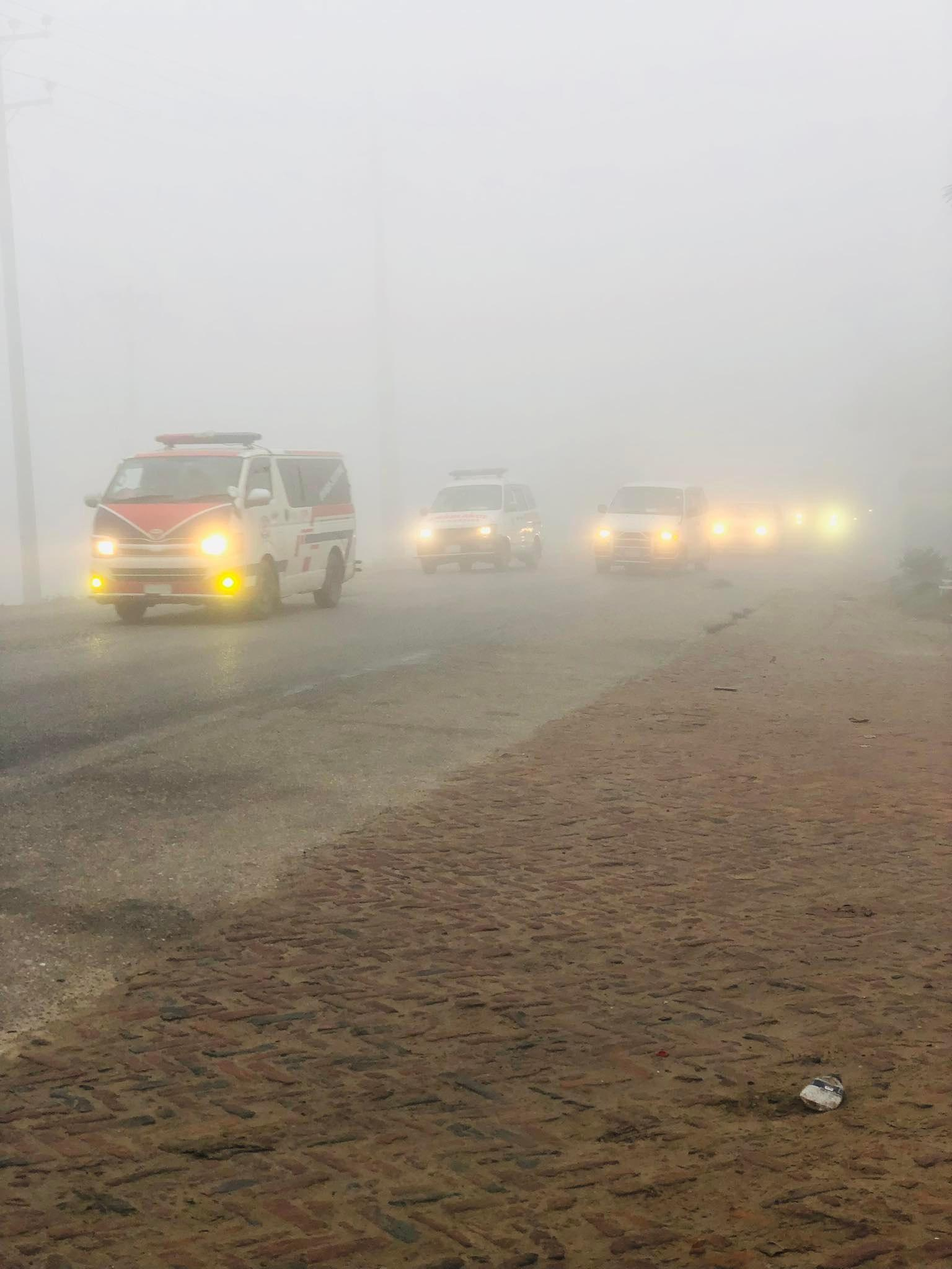Car: (65, 428, 384, 620), (412, 458, 555, 589), (591, 471, 729, 579)
